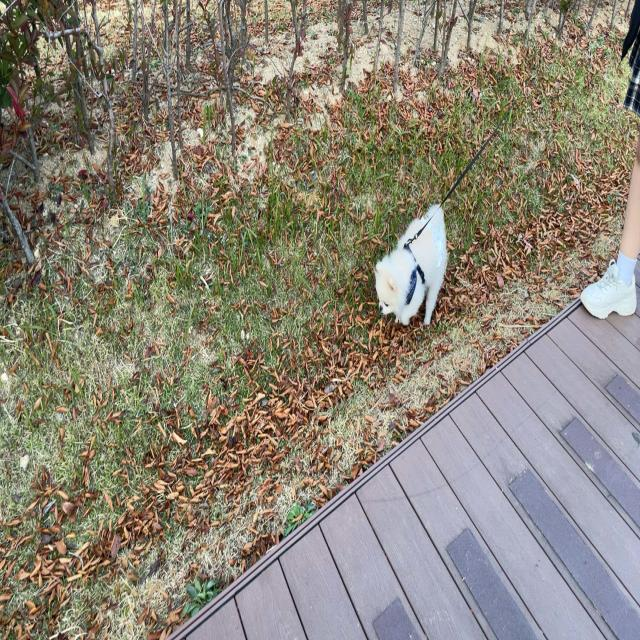Dog: (374, 202, 448, 328)
